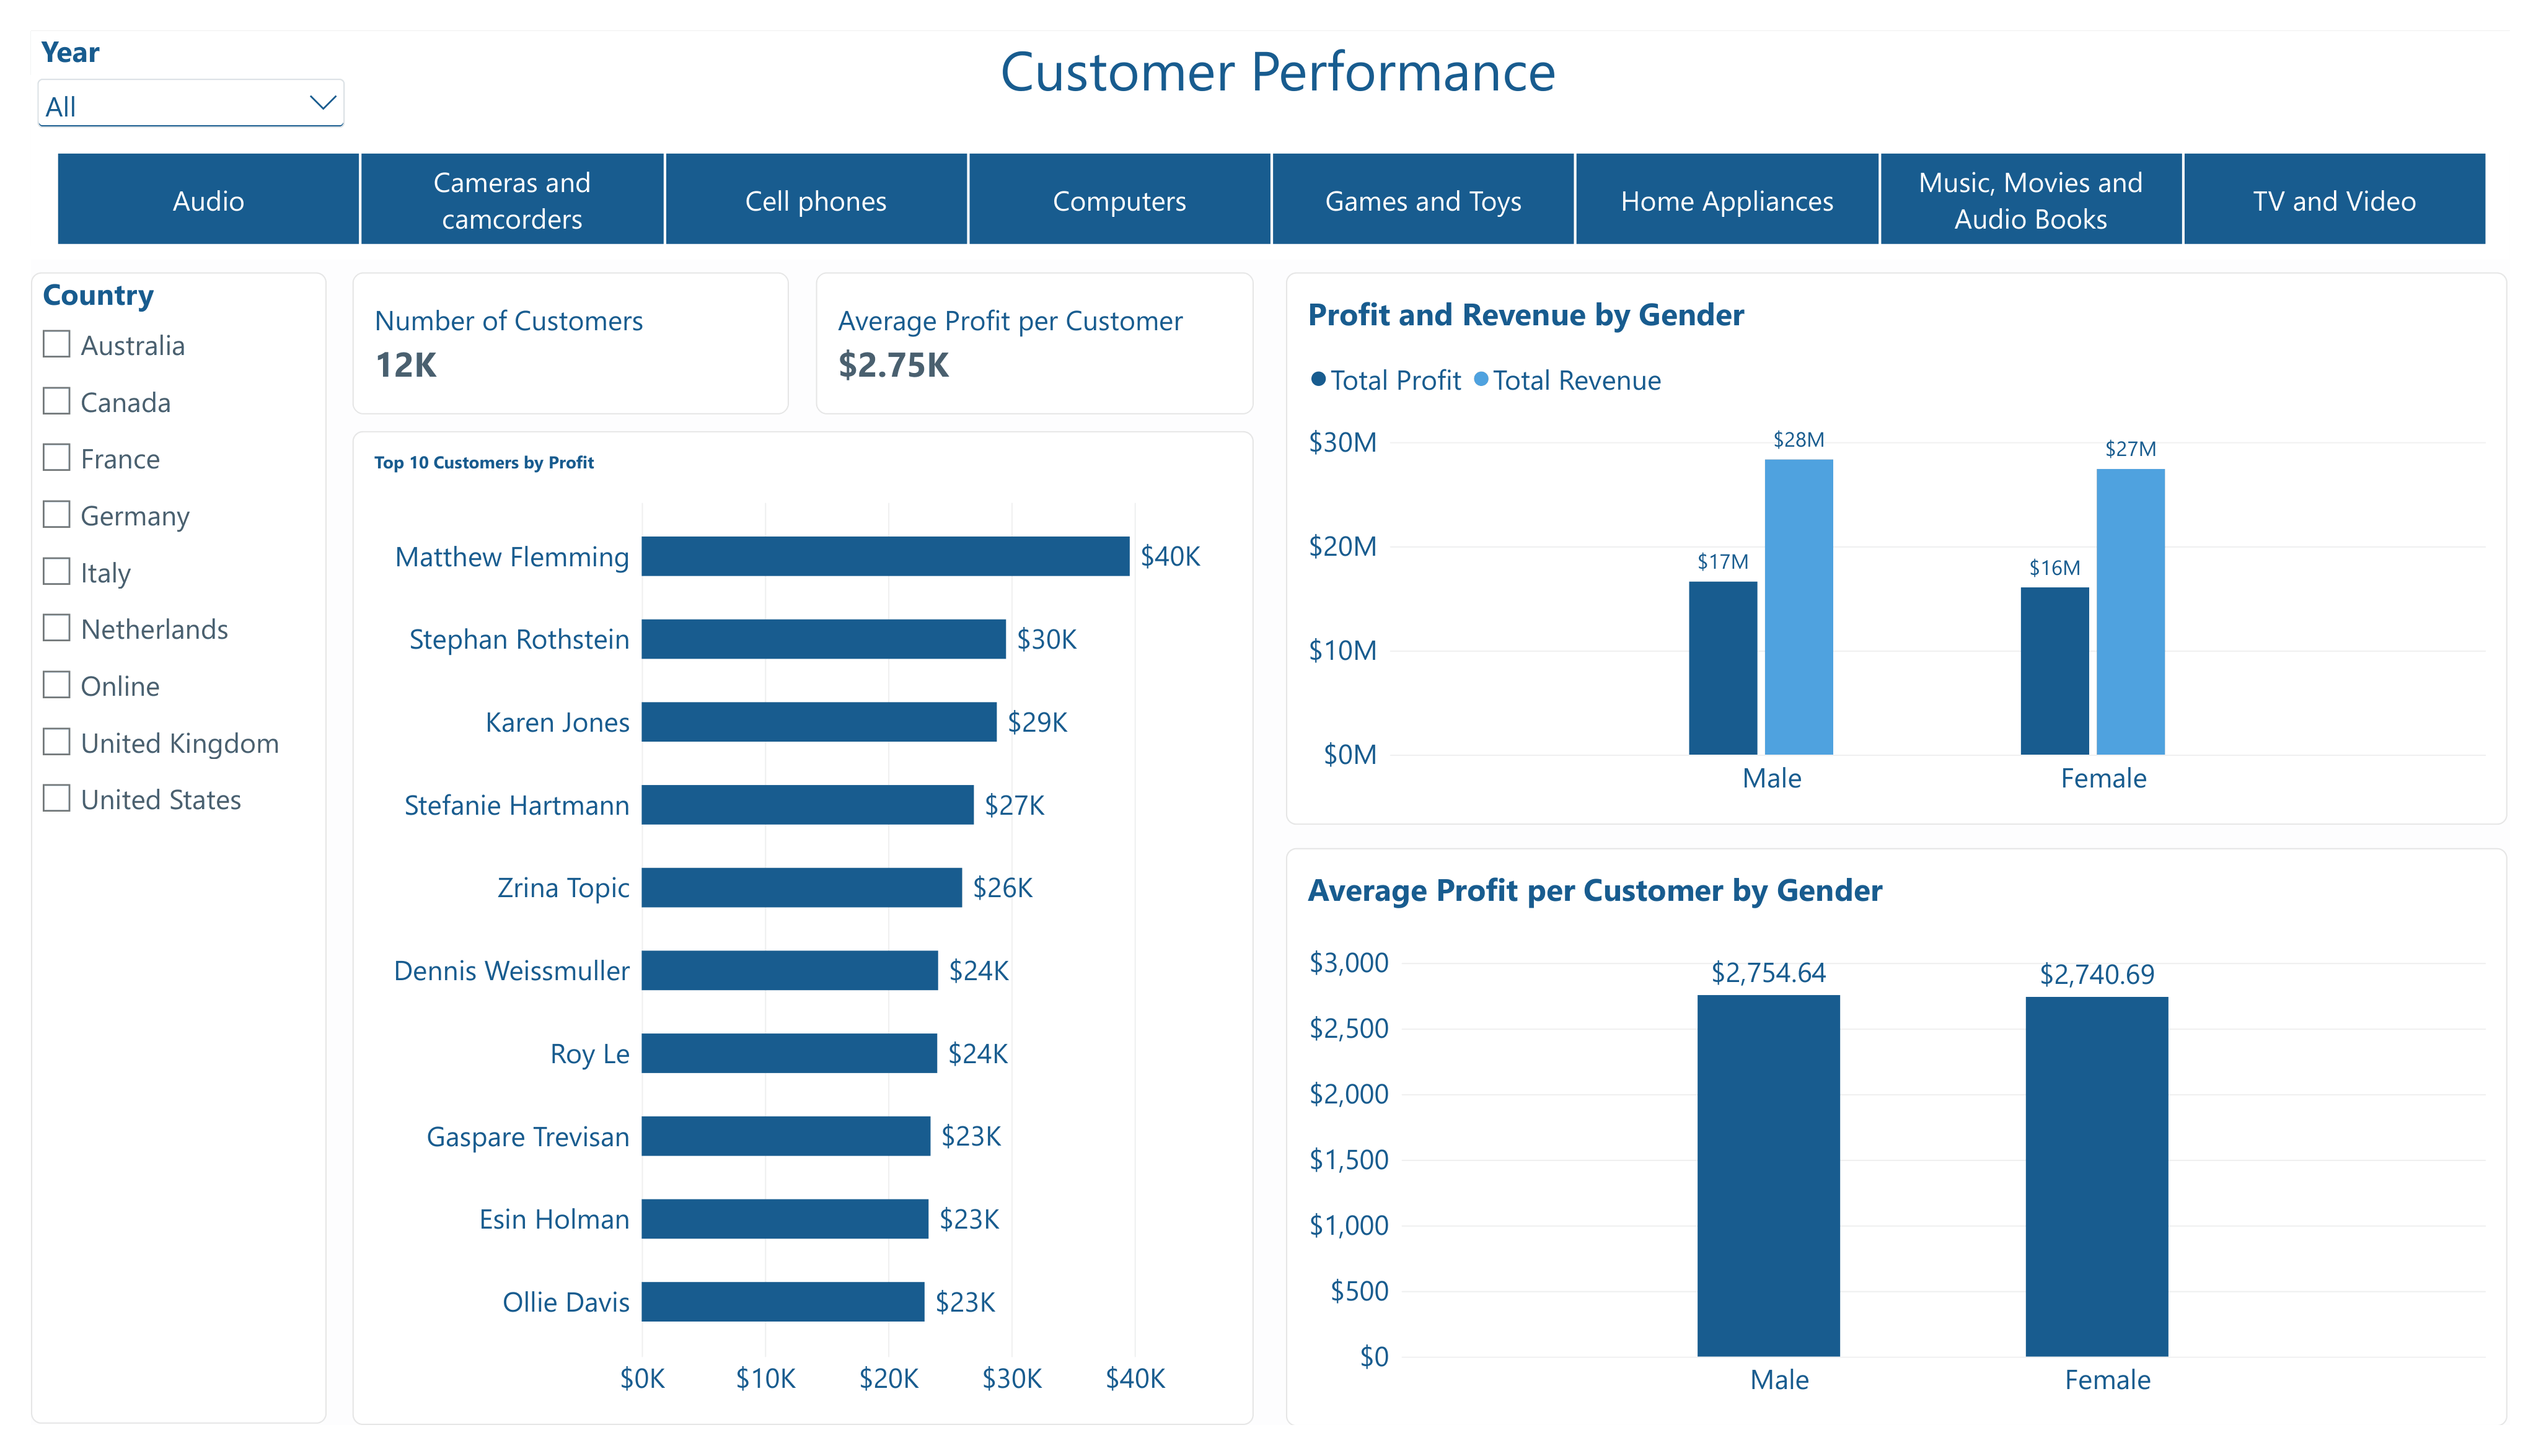

The page's visual inventory and layout, read from the dashboard file:
{"tool":"powerbi","page":{"name":"Customer Performance","canvas":[1920,1080],"ordinal":2},"visuals":[{"type":"cardVisual","fields":{"Data":["_Mesures.Number of Customers"]},"box":[249.3,187.4,337.9,109.2],"z":0},{"type":"cardVisual","fields":{"Data":["_Mesures.Average Profit per Customer"]},"box":[607.9,187.4,339.3,109.2],"z":1000},{"type":"clusteredBarChart","title":"Top 10 Customers by Profit","fields":{"Category":["Customers.Name"],"Y":["_Mesures.Total Profit"]},"box":[249.3,309.8,697.9,770.2],"z":2000},{"type":"clusteredColumnChart","title":"Profit and Revenue by Gender","fields":{"Category":["Customers.Gender"],"Y":["_Mesures.Total Profit","_Mesures.Total Revenue"]},"box":[972.3,187.4,945.7,427.9],"z":3000},{"type":"clusteredColumnChart","title":"Average Profit per Customer by Gender","fields":{"Category":["Customers.Gender"],"Y":["_Mesures.Average Profit per Customer"]},"box":[972.3,633,945.7,448.5],"z":4000},{"type":"textbox","box":[248.1,0,1671.9,93],"z":8000},{"type":"slicer","fields":{"Values":["DateTable.Year Hierarchy.Year"]},"box":[0,0,247.9,82.6],"z":8001},{"type":"slicer","fields":{"Values":["Stores.Country"]},"box":[0,187.4,228.7,891.1],"z":8002},{"type":"slicer","fields":{"Values":["Products.Category"]},"box":[0,82.6,1919.5,94.4],"z":8003}]}

Visuals, with their boxes on the page's 1920x1080 design canvas (x1, y1, x2, y2). These are canvas units, not pixel positions in the 2541x1456 screenshot, which may show the page scaled, cropped or inside an application window:
cardVisual - _Mesures.Number of Customers: rect(249, 187, 587, 297)
cardVisual - _Mesures.Average Profit per Customer: rect(608, 187, 947, 297)
"Top 10 Customers by Profit" clusteredBarChart: rect(249, 310, 947, 1080)
"Profit and Revenue by Gender" clusteredColumnChart: rect(972, 187, 1918, 615)
"Average Profit per Customer by Gender" clusteredColumnChart: rect(972, 633, 1918, 1082)
textbox: rect(248, 0, 1920, 93)
slicer - DateTable.Year Hierarchy.Year: rect(0, 0, 248, 83)
slicer - Stores.Country: rect(0, 187, 229, 1078)
slicer - Products.Category: rect(0, 83, 1920, 177)
